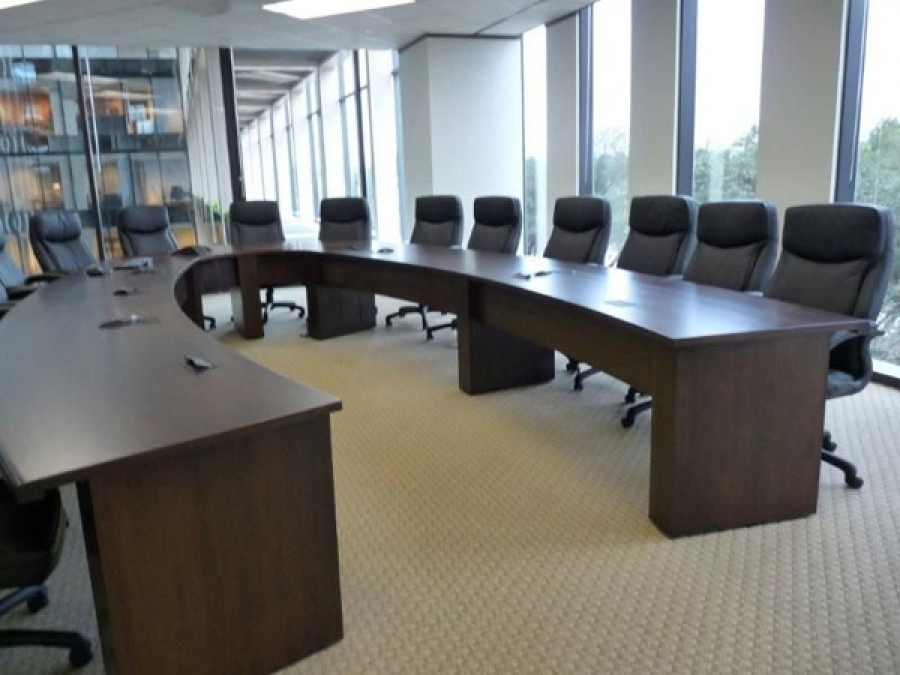conference_table: (1, 238, 867, 675)
